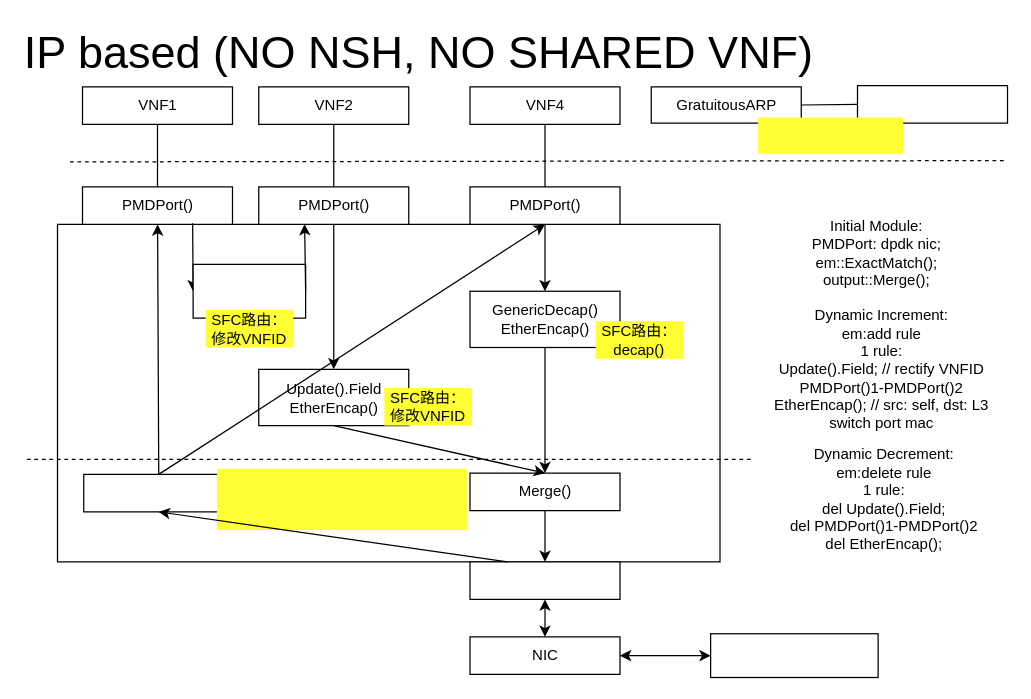
Some shapes in this 1031 by 699 pixel diagram are drawn without their labels. Here are the shapes that lost their labels. From the top down, the centre of each, then its label:
[932,103]: ens3
[830,135]: 对外通告本机ip地址：有很多个ip地址
[249,290]: Update().Field forward()
[158,492]: ExactMatch()
[341,498]: ExactMatch()： 根据dstIP(VNFID)对流分类
[544,580]: PMDPort
[793,655]: Openflow Switch
